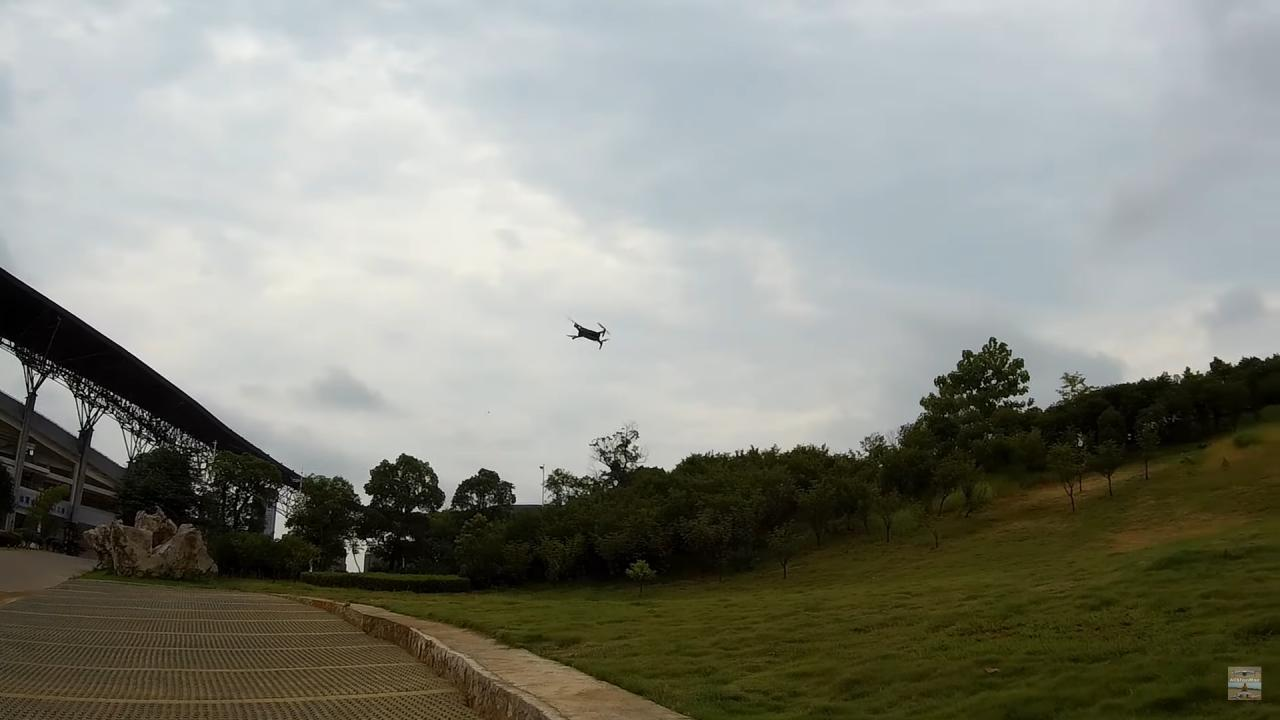Drone: (554, 312, 617, 356)
